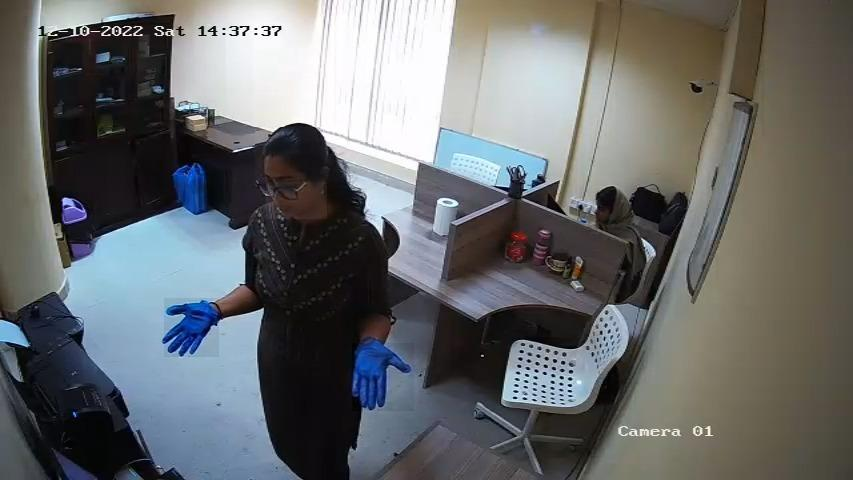apron: (352, 343, 414, 411), (164, 298, 219, 357)
no_gloves: (256, 128, 346, 183), (593, 180, 632, 214)
no_hairnet: (266, 180, 328, 220), (589, 199, 616, 229)
